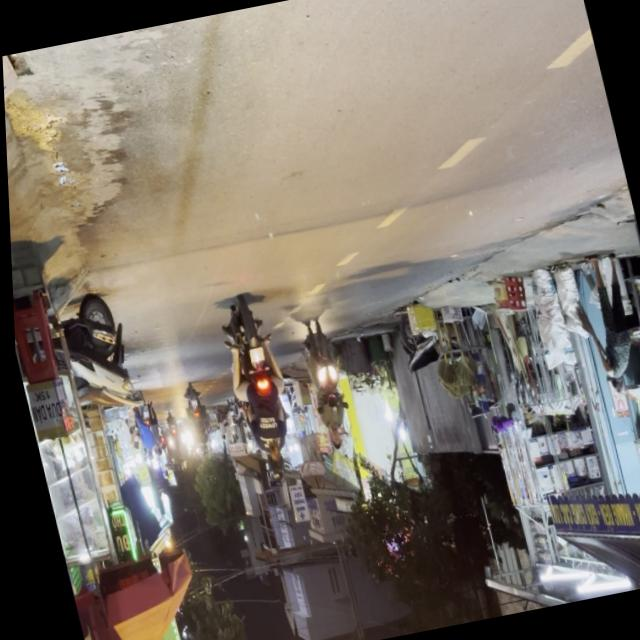helmet: (263, 450, 284, 480)
licenseplate: (211, 295, 304, 486)
nohelmet: (246, 348, 264, 366)
